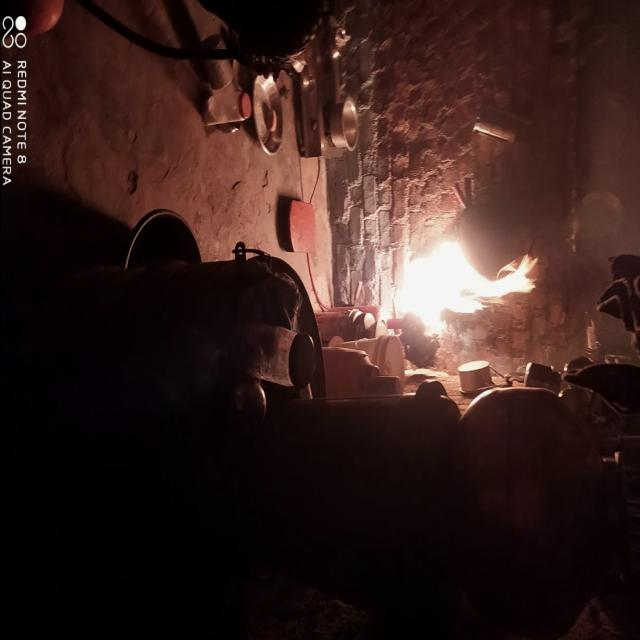firerotation: (392, 228, 539, 342)
